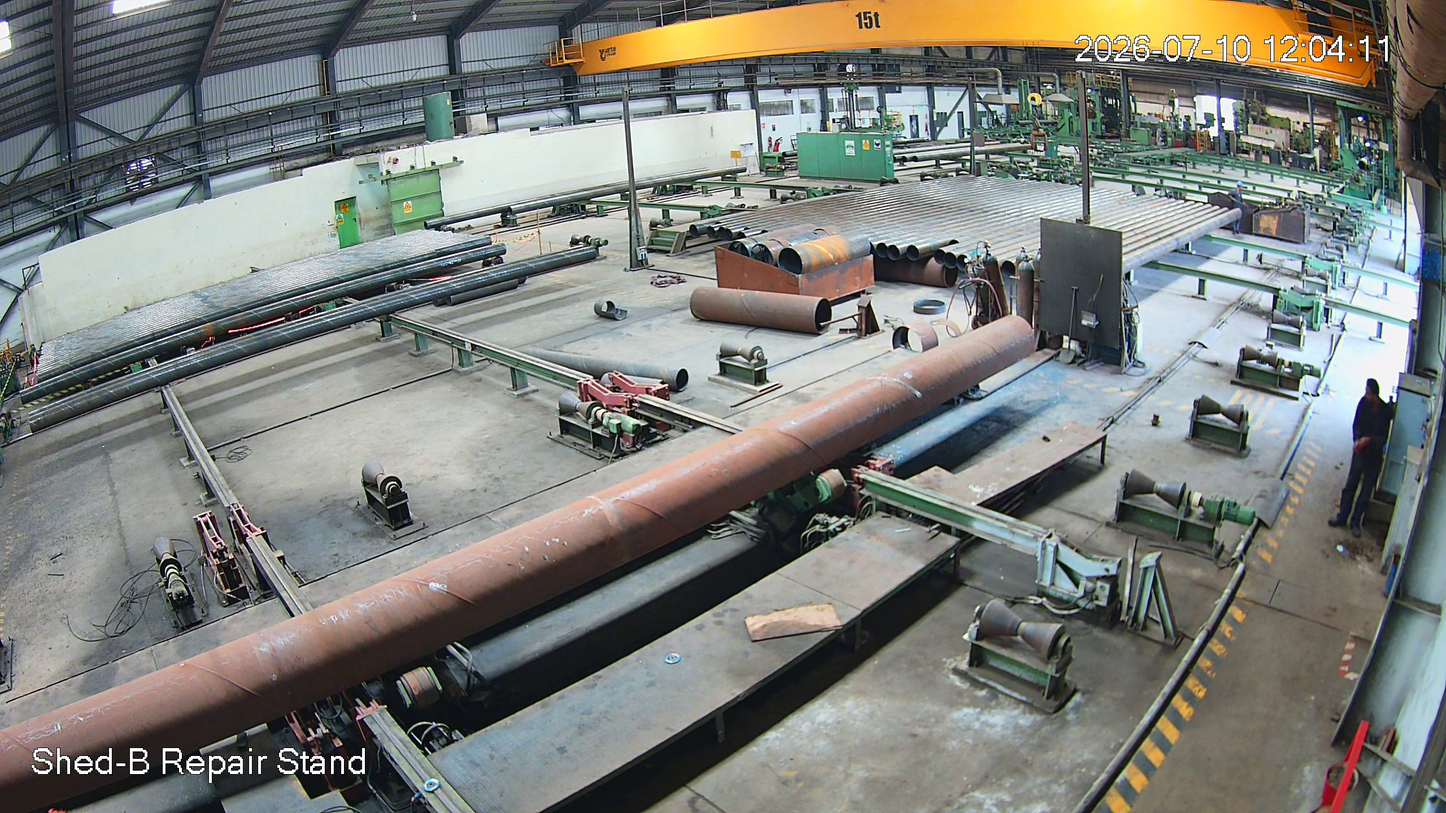Person: (1330, 380, 1392, 550)
